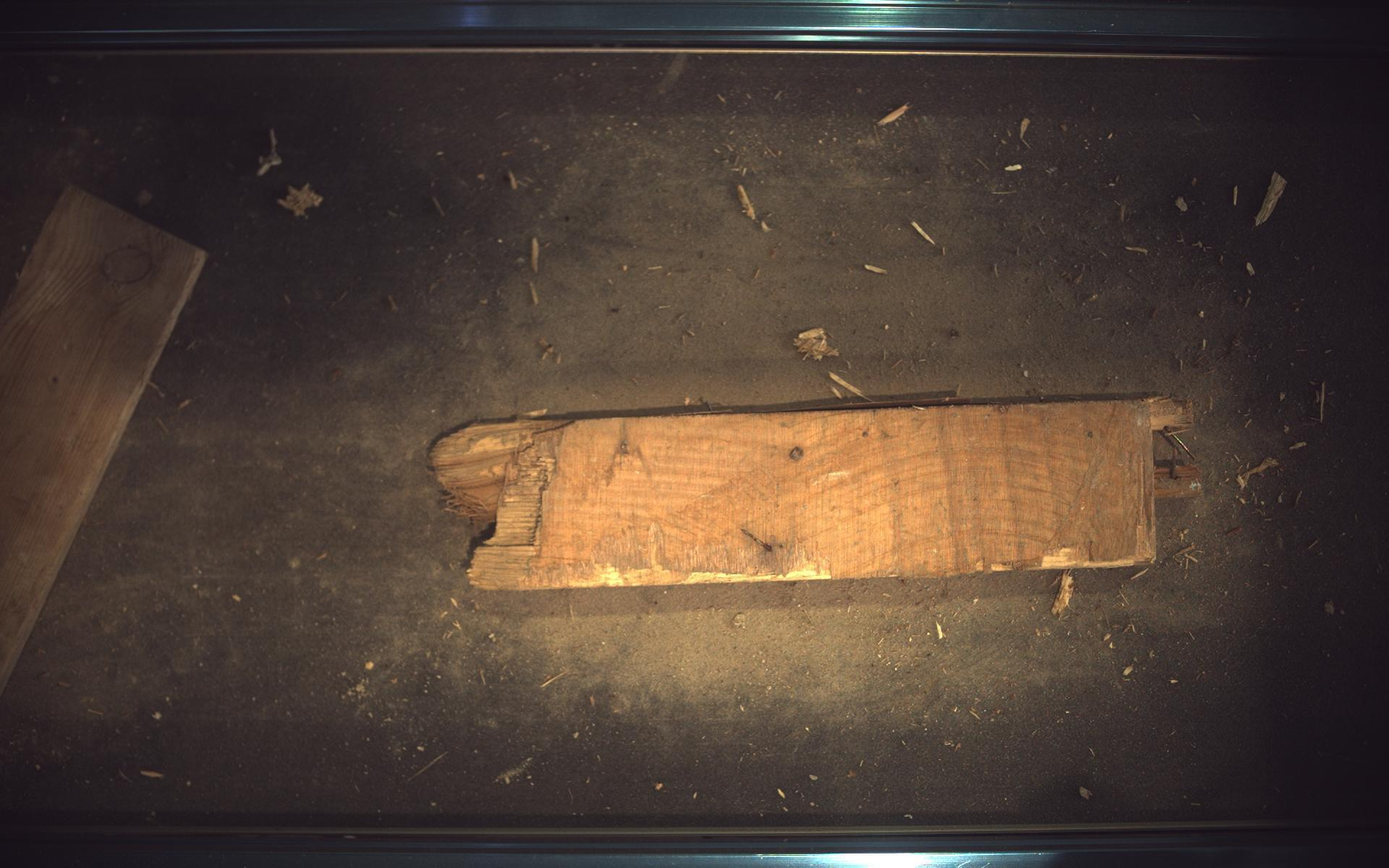wood: (430, 396, 1204, 591)
